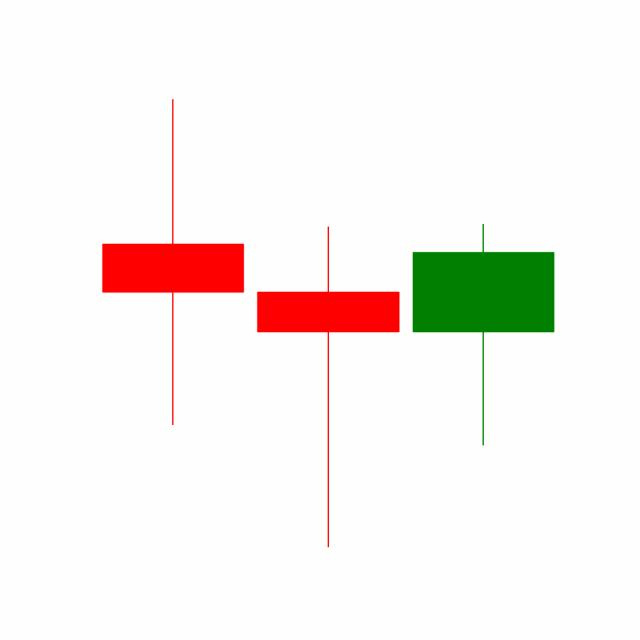Hammer: (249, 222, 406, 550)
